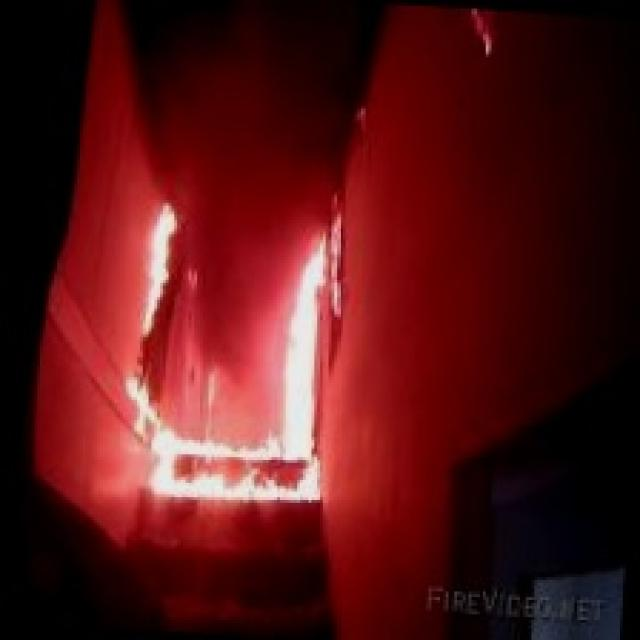fire: (109, 186, 380, 520)
